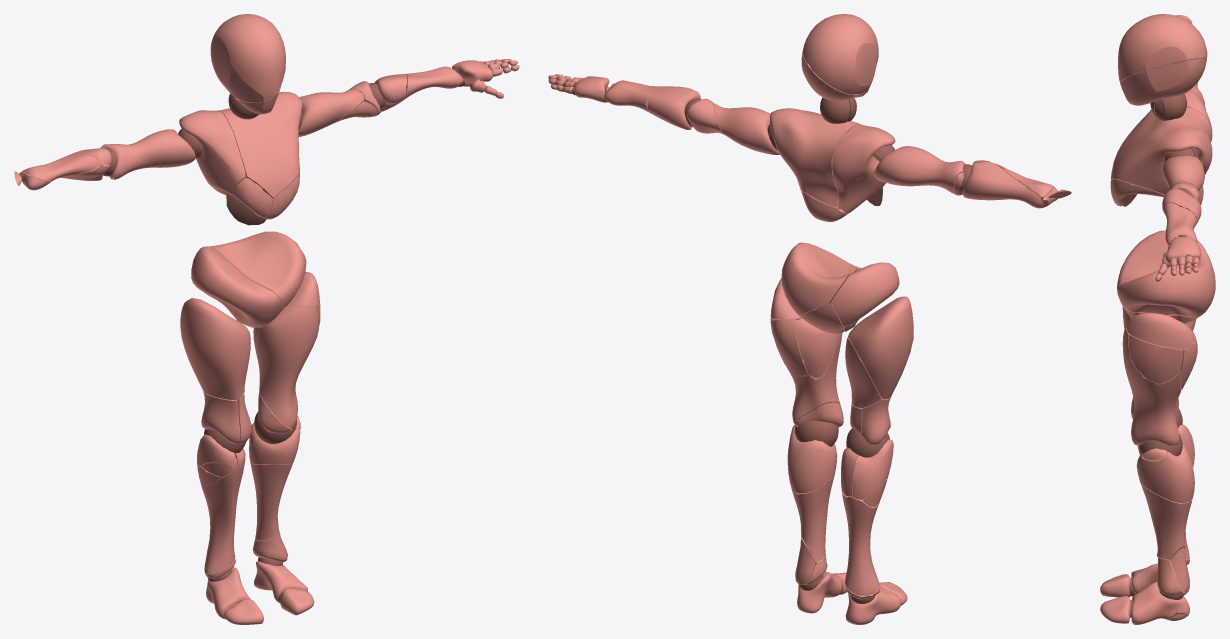
The model's file is bot Fracture.fbx.
3 views of the same model, side by side, from view 1: azimuth 30°, elevation 25°; view 2: azimuth 150°, elevation 25°; view 3: azimuth 270°, elevation 25° (orthographic). The views are drawn at different scales.
Parts seen in each view (by area): view 1: Beta_Surface_cell.047, Beta_Surface_cell.055, Beta_Surface_cell.018, Beta_Surface_cell.058, Beta_Surface_cell.028, Beta_Surface_cell.002, Beta_Surface_cell.037, Beta_Surface_cell.001, Beta_Surface_cell.004, Beta_Surface_cell.021, Beta_Surface_cell.026, Beta_Surface_cell.008 (+10 smaller); view 2: Beta_Surface_cell.047, Beta_Surface_cell.018, Beta_Surface_cell.055, Beta_Surface_cell.028, Beta_Surface_cell.002, Beta_Surface_cell.001, Beta_Surface_cell.037, Beta_Surface_cell.048, Beta_Surface_cell.010, Beta_Surface_cell.004, Beta_Surface_cell.031, Beta_Surface_cell.008 (+13 smaller); view 3: Beta_Surface_cell.018, Beta_Surface_cell.055, Beta_Surface_cell.028, Beta_Surface_cell.058, Beta_Surface_cell.007, Beta_Surface_cell.010, Beta_Surface_cell.049, Beta_Surface_cell.004, Beta_Surface_cell.021, Beta_Surface_cell.014, Beta_Surface_cell.052, Beta_Surface_cell.047 (+14 smaller).
Boxes of the visible parts, x1=… form: Beta_Surface_cell.047: x1=180, y1=246, x2=283, y2=400; Beta_Surface_cell.055: x1=210, y1=14, x2=285, y2=102; Beta_Surface_cell.018: x1=217, y1=91, x2=302, y2=197; Beta_Surface_cell.058: x1=257, y1=305, x2=318, y2=428; Beta_Surface_cell.028: x1=209, y1=231, x2=306, y2=307; Beta_Surface_cell.002: x1=179, y1=110, x2=245, y2=195; Beta_Surface_cell.037: x1=201, y1=465, x2=244, y2=574; Beta_Surface_cell.001: x1=101, y1=129, x2=195, y2=179; Beta_Surface_cell.004: x1=405, y1=59, x2=517, y2=98; Beta_Surface_cell.021: x1=250, y1=463, x2=292, y2=540; Beta_Surface_cell.026: x1=206, y1=567, x2=263, y2=624; Beta_Surface_cell.008: x1=298, y1=89, x2=363, y2=136; Beta_Surface_cell.047: x1=831, y1=262, x2=913, y2=399; Beta_Surface_cell.018: x1=769, y1=108, x2=861, y2=207; Beta_Surface_cell.055: x1=802, y1=14, x2=878, y2=94; Beta_Surface_cell.028: x1=781, y1=242, x2=857, y2=316; Beta_Surface_cell.002: x1=832, y1=124, x2=895, y2=213; Beta_Surface_cell.001: x1=874, y1=146, x2=965, y2=195; Beta_Surface_cell.037: x1=842, y1=491, x2=881, y2=595; Beta_Surface_cell.048: x1=795, y1=303, x2=844, y2=377; Beta_Surface_cell.010: x1=787, y1=426, x2=837, y2=493; Beta_Surface_cell.004: x1=548, y1=75, x2=673, y2=113; Beta_Surface_cell.031: x1=962, y1=162, x2=1042, y2=208; Beta_Surface_cell.008: x1=714, y1=103, x2=779, y2=154; Beta_Surface_cell.018: x1=1111, y1=107, x2=1212, y2=195; Beta_Surface_cell.055: x1=1118, y1=14, x2=1207, y2=81; Beta_Surface_cell.028: x1=1117, y1=245, x2=1215, y2=316; Beta_Surface_cell.058: x1=1122, y1=324, x2=1181, y2=445; Beta_Surface_cell.007: x1=1120, y1=59, x2=1206, y2=105; Beta_Surface_cell.010: x1=1136, y1=443, x2=1194, y2=502; Beta_Surface_cell.049: x1=1100, y1=581, x2=1189, y2=624; Beta_Surface_cell.004: x1=1155, y1=202, x2=1201, y2=281; Beta_Surface_cell.021: x1=1141, y1=484, x2=1192, y2=559; Beta_Surface_cell.014: x1=1126, y1=312, x2=1195, y2=349; Beta_Surface_cell.052: x1=1128, y1=334, x2=1183, y2=383; Beta_Surface_cell.047: x1=1117, y1=230, x2=1212, y2=329.
Size of the model in its own units: 165 by 181 by 32.07.
